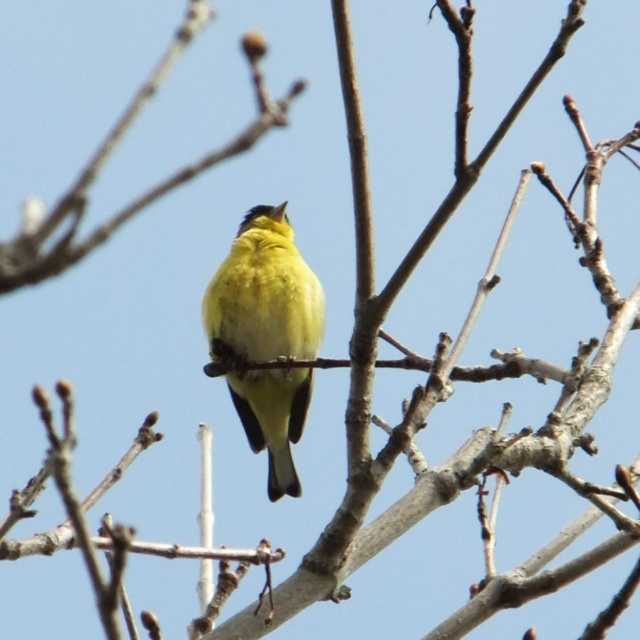Canary: (199, 193, 325, 503)
